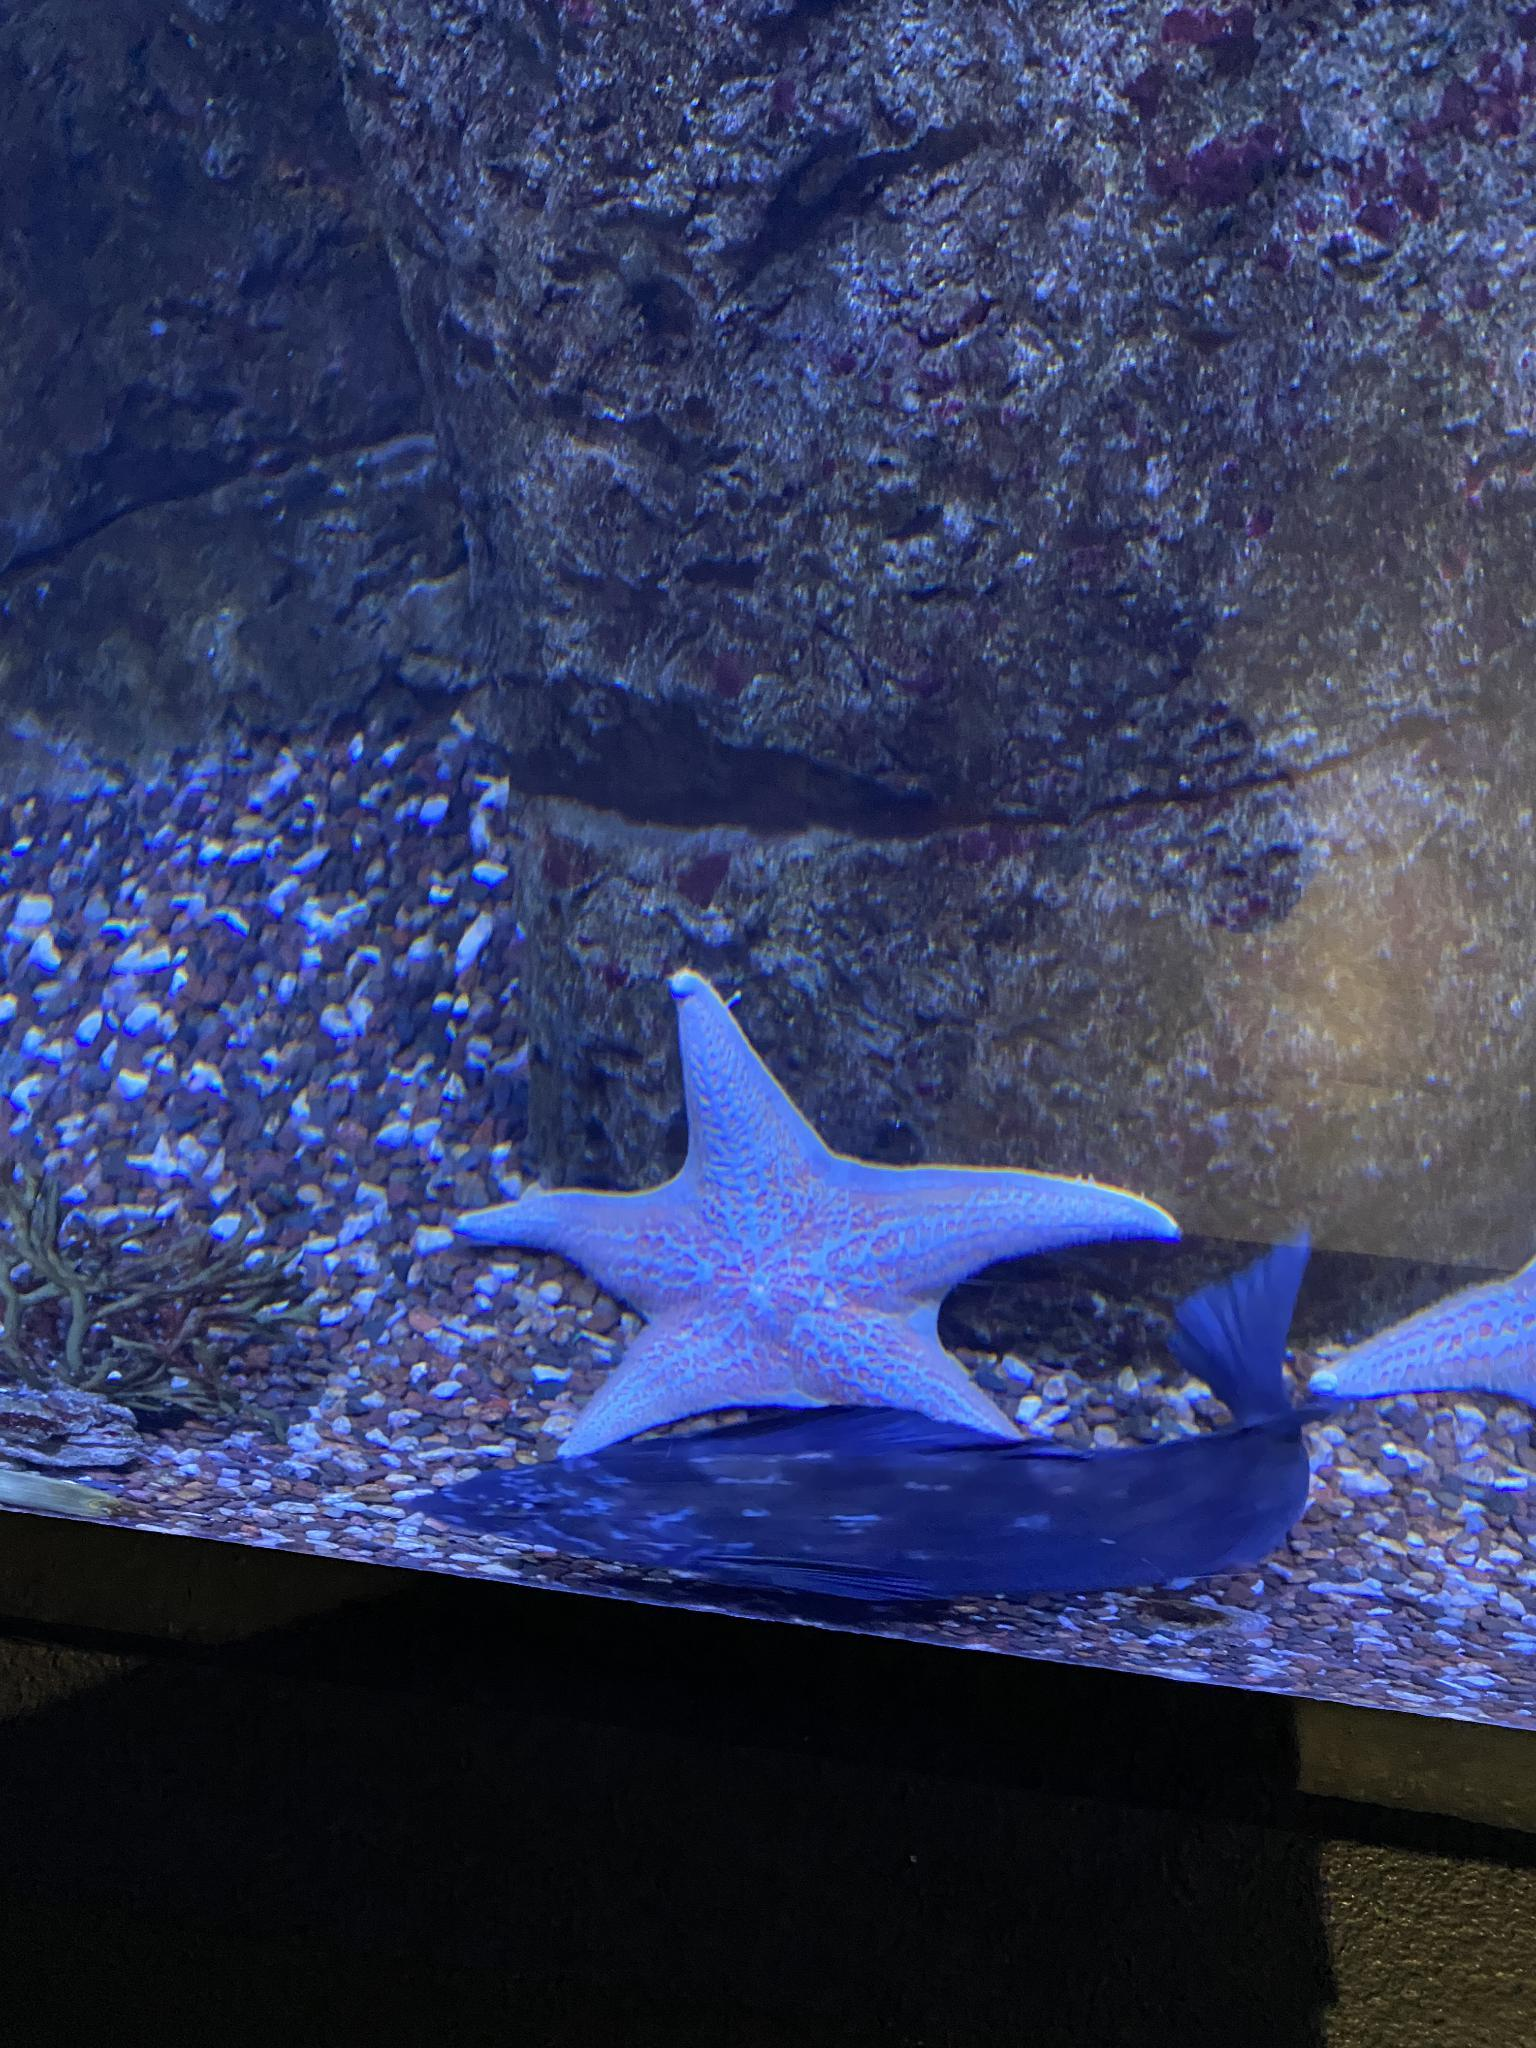fish: (413, 1230, 1307, 1598)
starfish: (450, 971, 1179, 1458), (1312, 1253, 1534, 1406)
